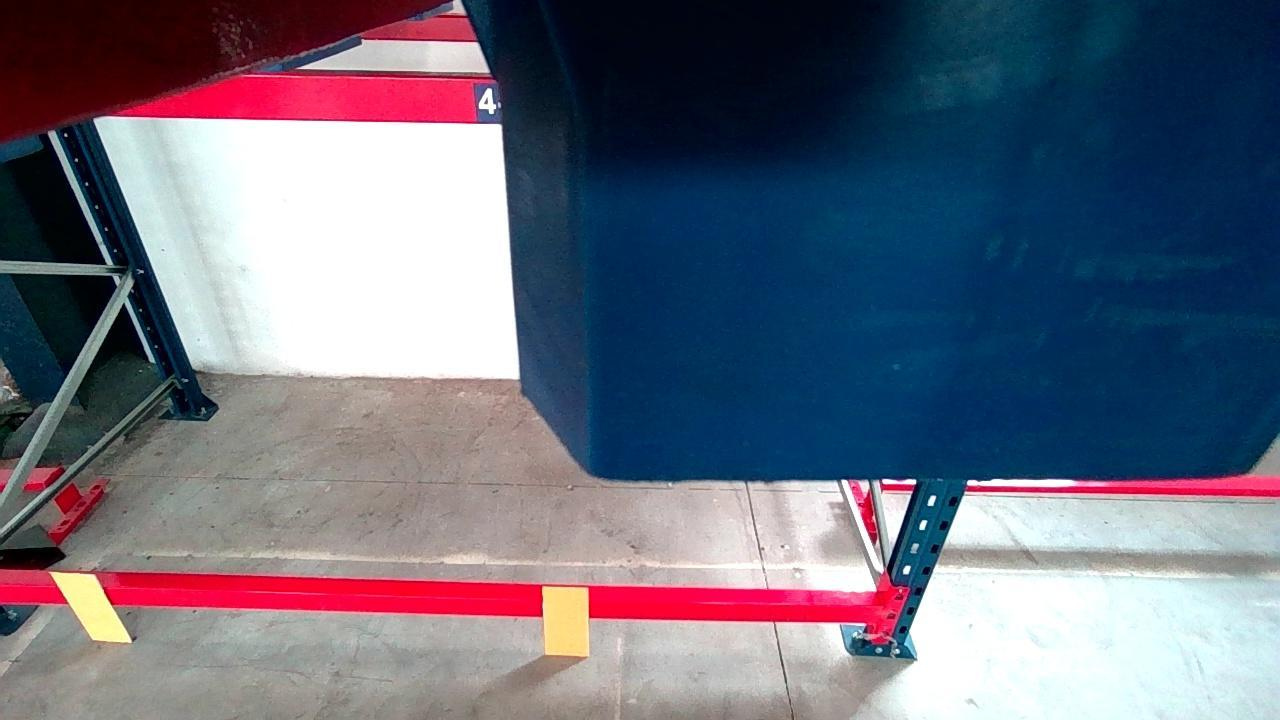h_rack: (0, 582, 877, 624), (124, 75, 500, 123)
orange_strip: (49, 574, 130, 640), (543, 587, 589, 656)
